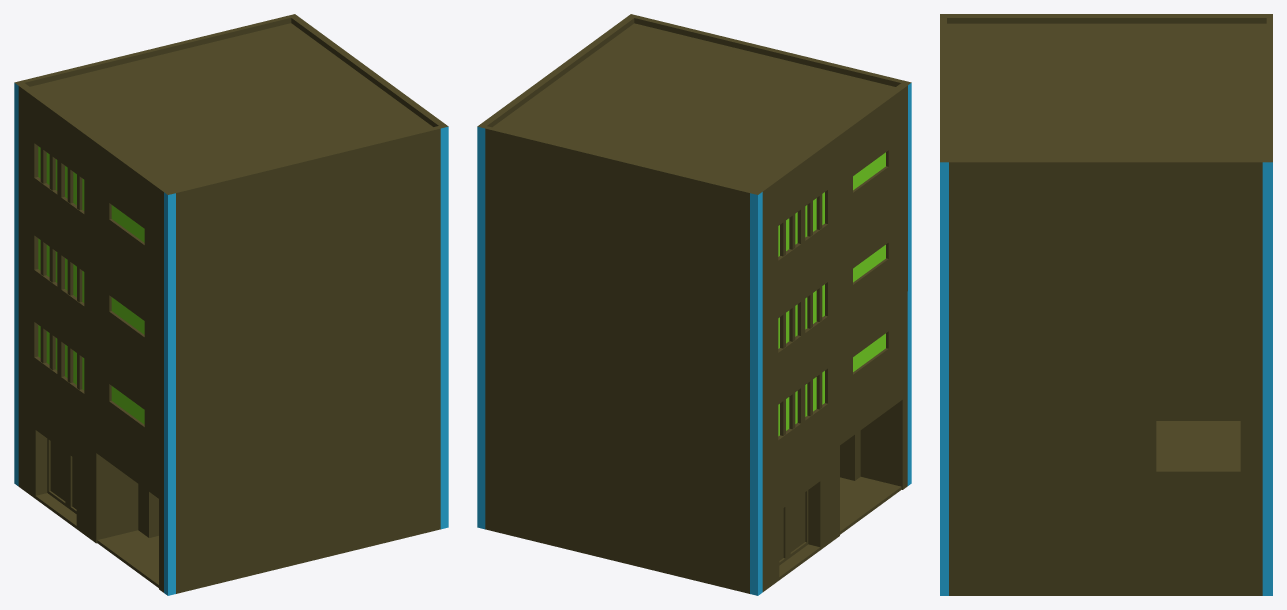
Rendered from SM_Buildings_Special_01 1.fbx.
3 views of the same model, side by side, from view 1: azimuth 30°, elevation 25°; view 2: azimuth 150°, elevation 25°; view 3: azimuth 270°, elevation 25° (orthographic). The views are drawn at different scales.
Visible parts, largest first — view 1: SM_Buildings_Special_01; view 2: SM_Buildings_Special_01; view 3: SM_Buildings_Special_01.
Boxes of the visible parts, x1,y1,x2,y2 form: SM_Buildings_Special_01: (14, 14, 448, 595); SM_Buildings_Special_01: (477, 14, 911, 595); SM_Buildings_Special_01: (940, 14, 1272, 595).
Size of the model in its own units: 2896 by 3950 by 2747.
